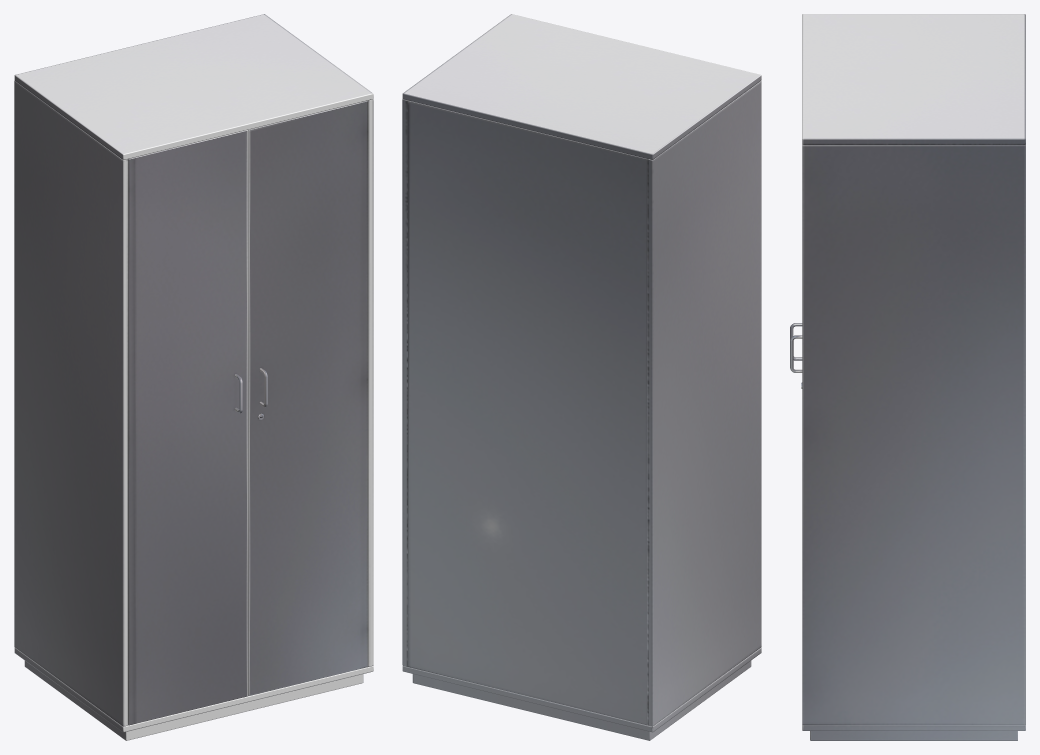
Rendered from gardero.glb.
3 views of the same model, side by side, from view 1: azimuth 30°, elevation 25°; view 2: azimuth 150°, elevation 25°; view 3: azimuth 270°, elevation 25° (orthographic). The views are drawn at different scales.
Visible parts, largest first — view 1: gardero-grey; view 2: gardero-grey; view 3: gardero-grey.
Boxes of the visible parts, left/top/right/bottom form: gardero-grey: left=14, top=14, right=373, bottom=740; gardero-grey: left=402, top=14, right=761, bottom=740; gardero-grey: left=790, top=14, right=1025, bottom=740.
Size of the model in its own units: 0.7983 by 1.8 by 0.6356.
1 material, 1 textured.
